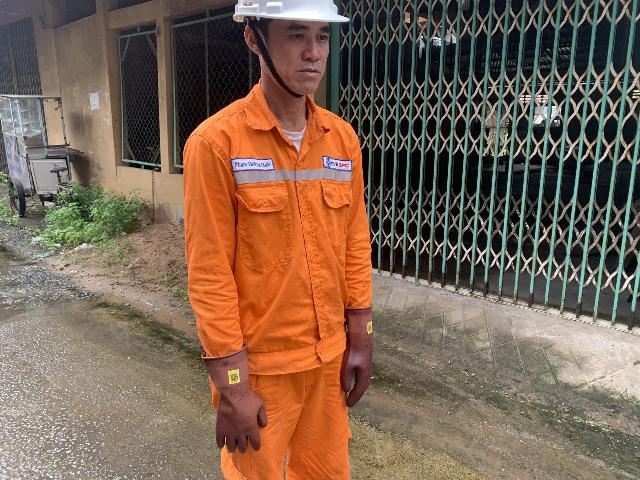gloves: (196, 343, 274, 458), (336, 297, 375, 411)
helmet: (231, 0, 358, 44)
